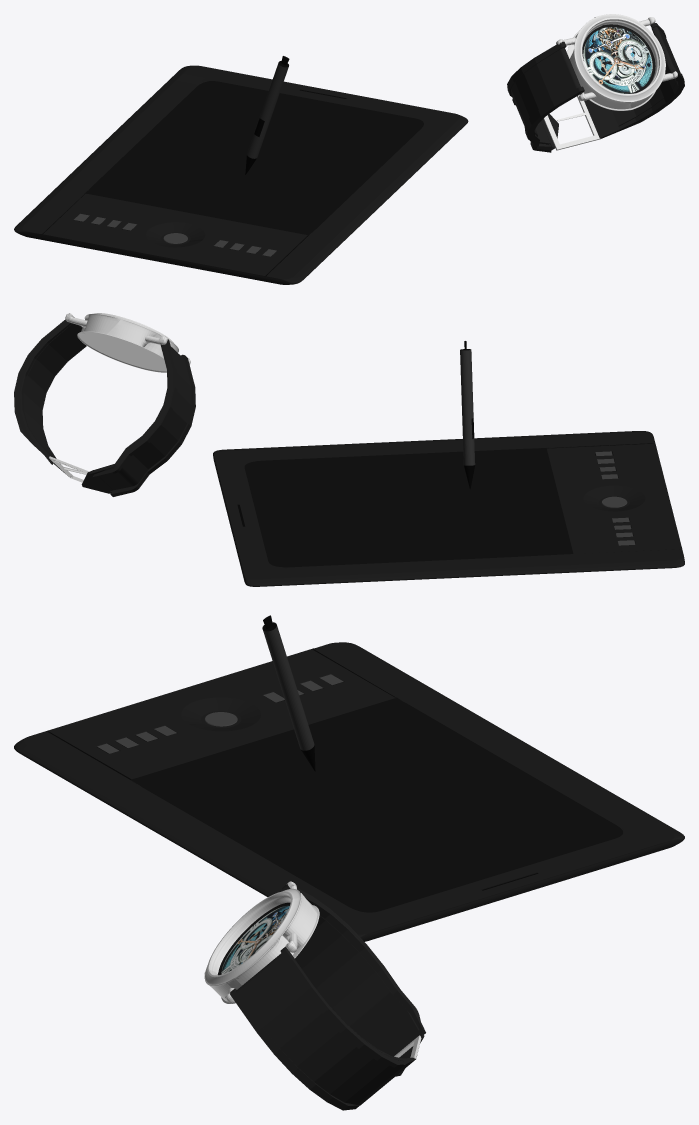
The model's file is tablewatch.glb.
3 views of the same model, one above another, from view 1: azimuth 30°, elevation 25°; view 2: azimuth 150°, elevation 25°; view 3: azimuth 270°, elevation 25° (orthographic). The views are drawn at different scales.
Parts seen in each view (by area): view 1: Cube, Cercle.001, Cercle, Cercle.002, Cylindre; view 2: Cube, Cercle, Cercle.002, Cercle.001, Cylindre; view 3: Cube, Cercle.002, Cercle, Cercle.001, Cylindre.
Part boxes in pixels (<box>): Cube: <box>14,65,468,284</box>; Cercle.001: <box>556,14,677,110</box>; Cercle: <box>507,41,584,152</box>; Cercle.002: <box>543,23,684,150</box>; Cylindre: <box>245,56,289,174</box>; Cube: <box>213,431,684,586</box>; Cercle: <box>81,339,195,496</box>; Cercle.002: <box>14,317,89,482</box>; Cercle.001: <box>65,313,190,372</box>; Cylindre: <box>460,341,475,489</box>; Cube: <box>14,642,684,941</box>; Cercle.002: <box>230,946,421,1110</box>; Cercle: <box>282,884,425,1076</box>; Cercle.001: <box>204,881,319,1003</box>; Cylindre: <box>262,615,315,771</box>.
Size of the model in its own units: 3.93 by 1.15 by 2.63.
Materials: 12 (1 with a texture image).
